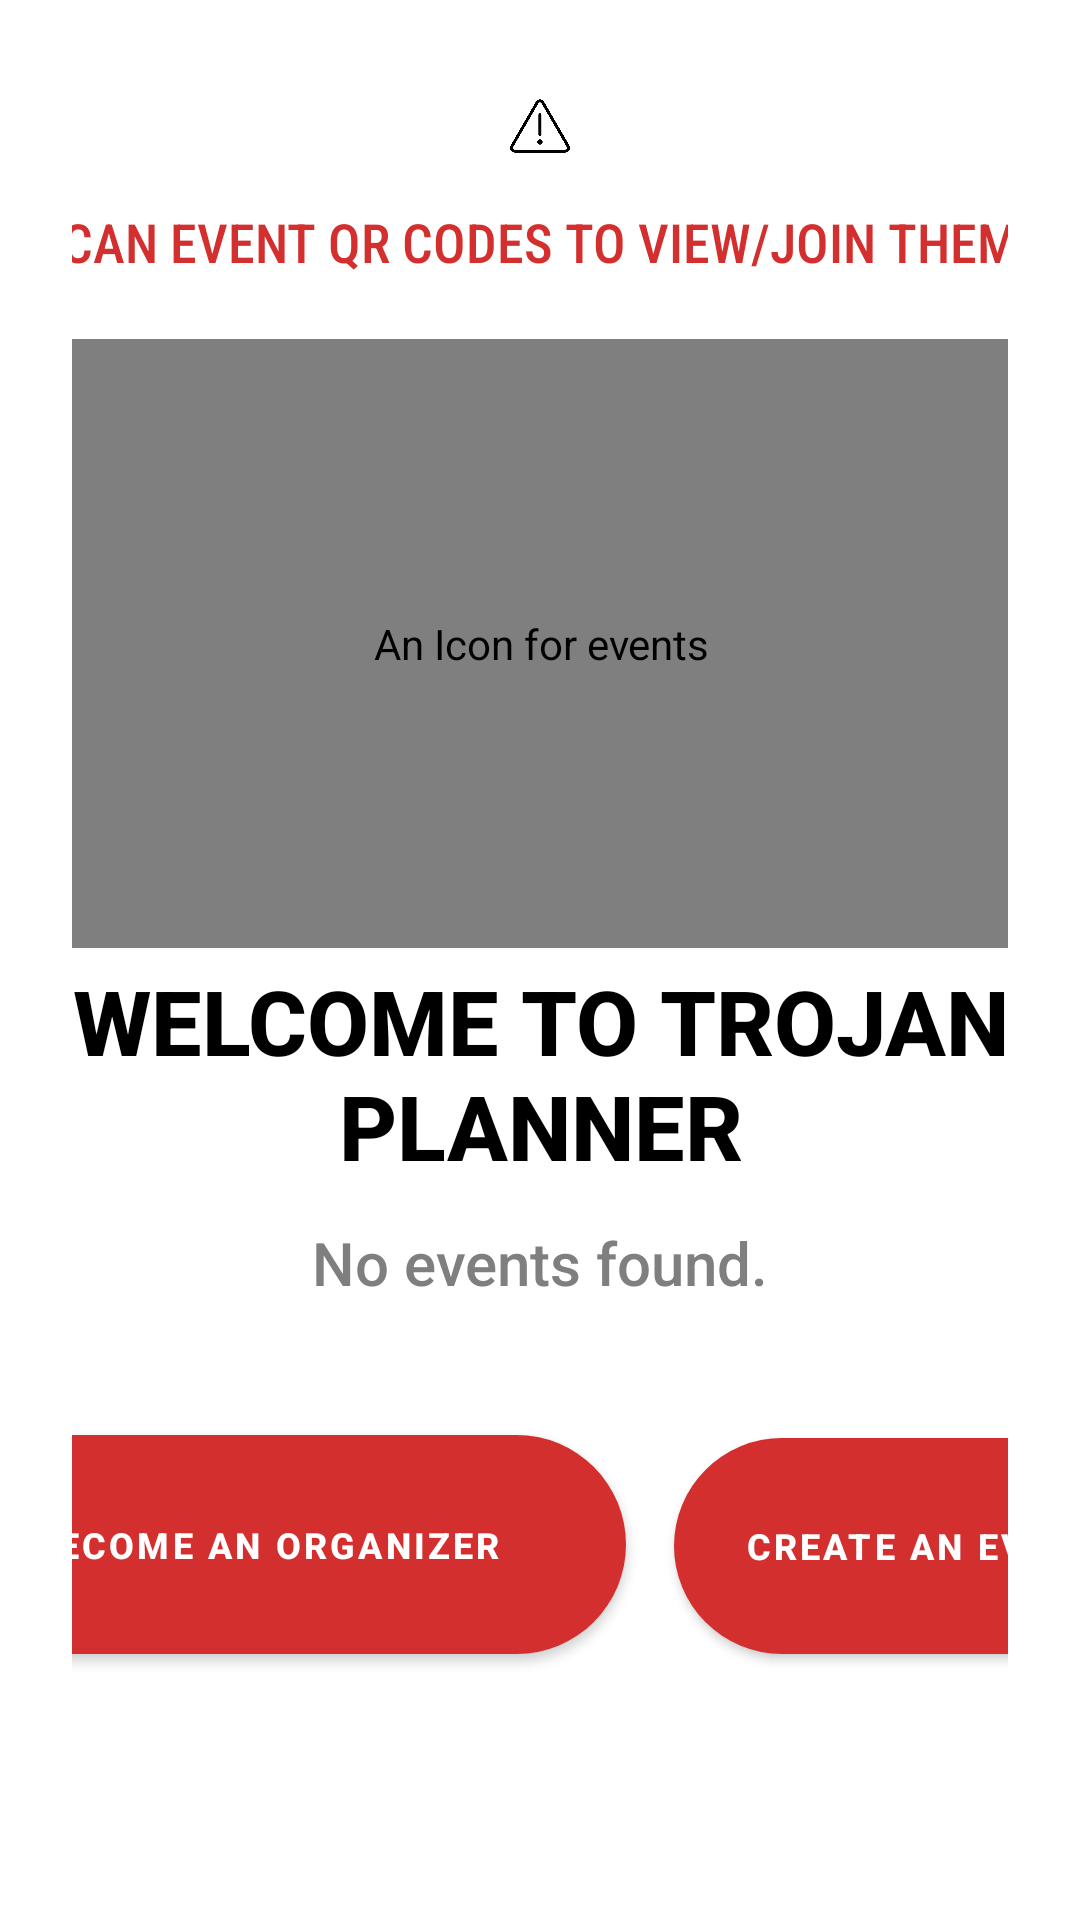

Where icons sit on this 1080 x 1920 app screen, as (x1, y1, x2, y2):
Alert icon: (510, 99, 570, 153)
